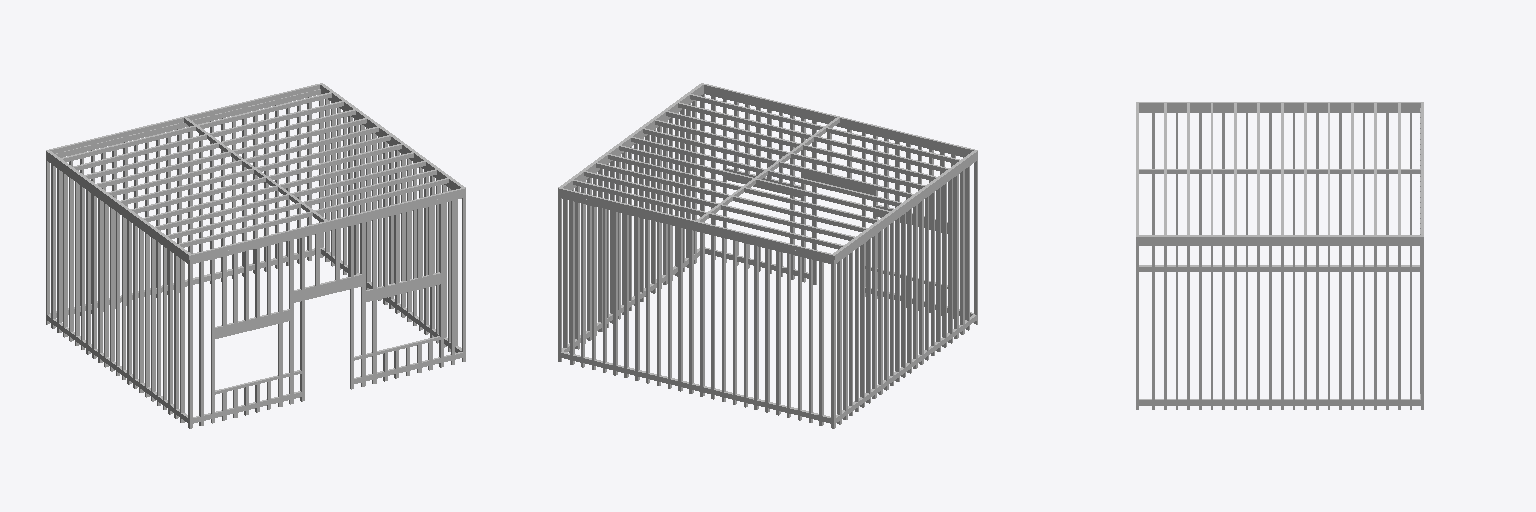
File: Frame_FlatStraight.obj
3 renders of one model, left to right at view 1: azimuth 30°, elevation 25°; view 2: azimuth 150°, elevation 25°; view 3: azimuth 270°, elevation 25°, orthographic.
Visible parts, largest first — view 1: Frame_FlatStraight; view 2: Frame_FlatStraight; view 3: Frame_FlatStraight.
Boxes of the visible parts, <box> form: Frame_FlatStraight: <box>46,83,465,428</box>; Frame_FlatStraight: <box>558,83,977,428</box>; Frame_FlatStraight: <box>1136,102,1423,409</box>.
Bounding box in the file's own units: 518 × 310 × 467.